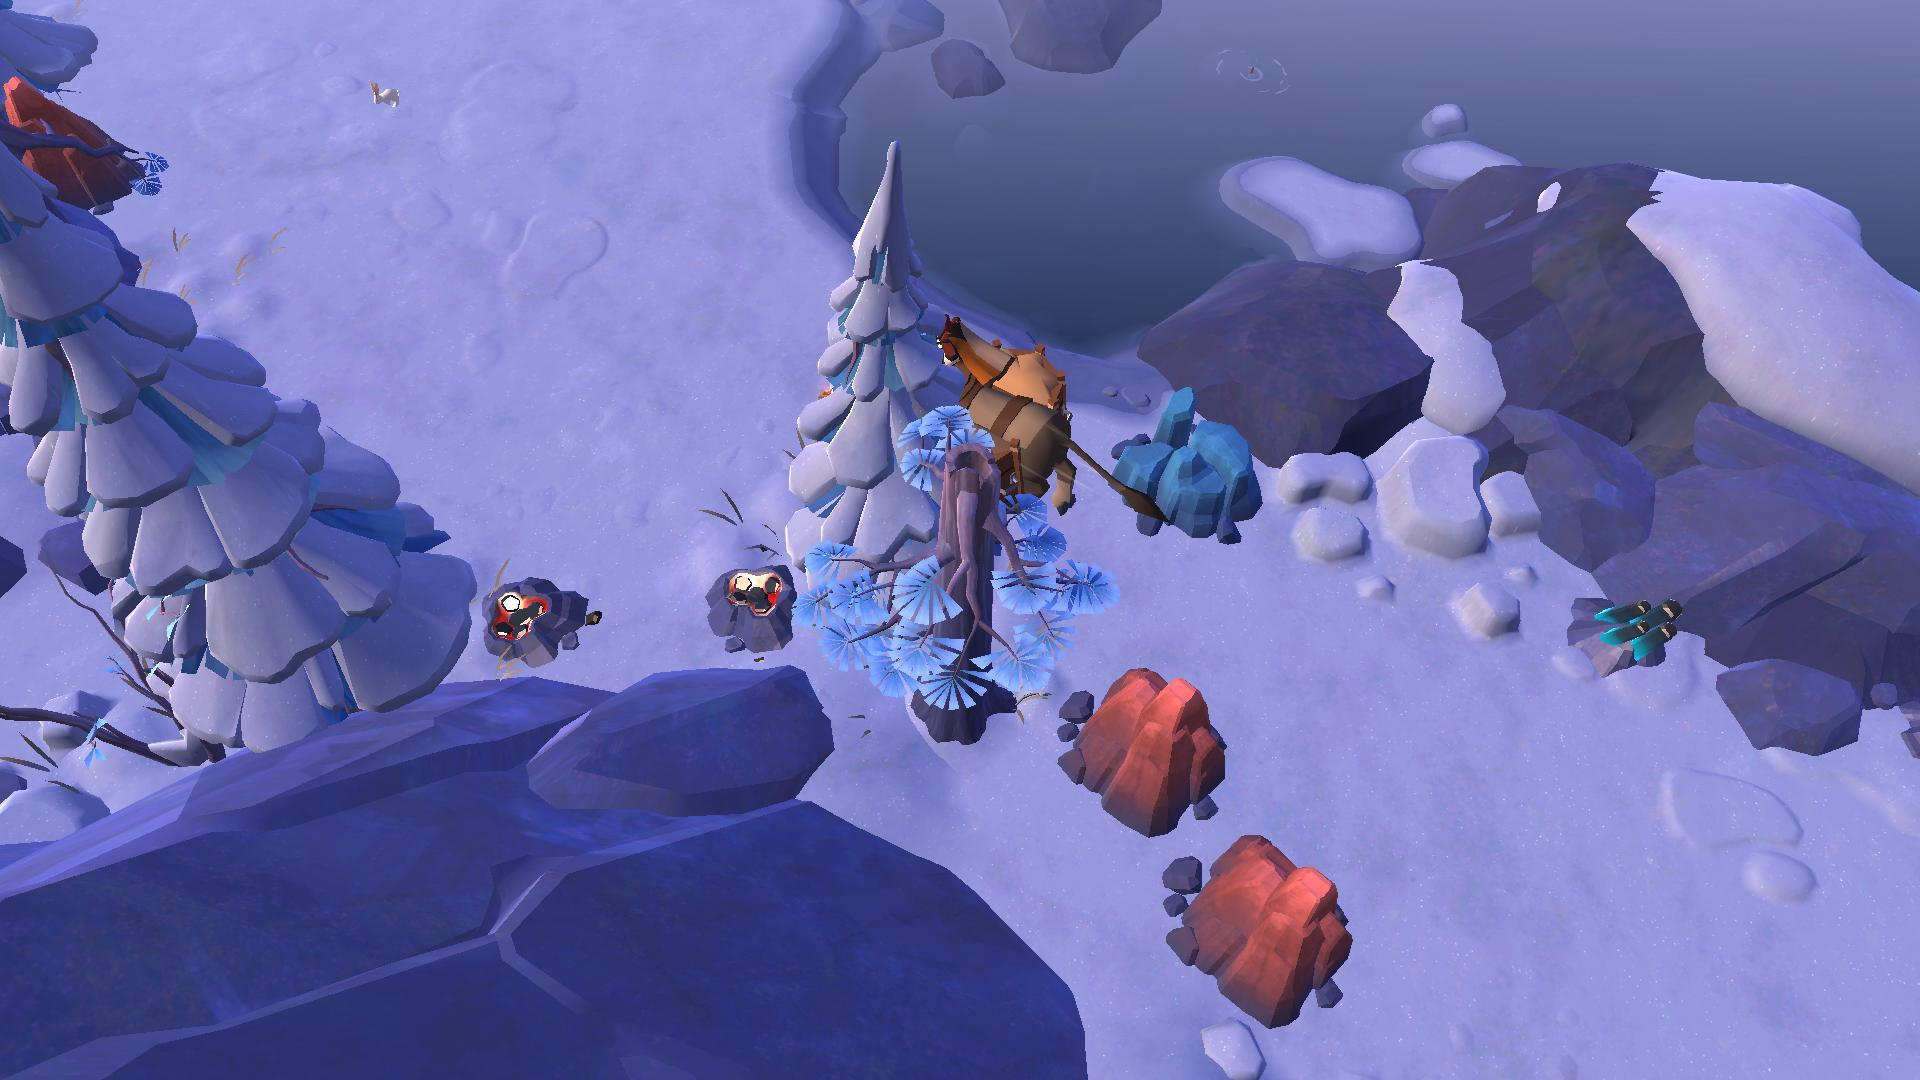ore_t4: (1594, 587, 1681, 666)
rock_t4: (1117, 385, 1254, 549)
rock_t5: (1171, 837, 1356, 1031), (1056, 659, 1228, 832), (0, 76, 162, 227)
